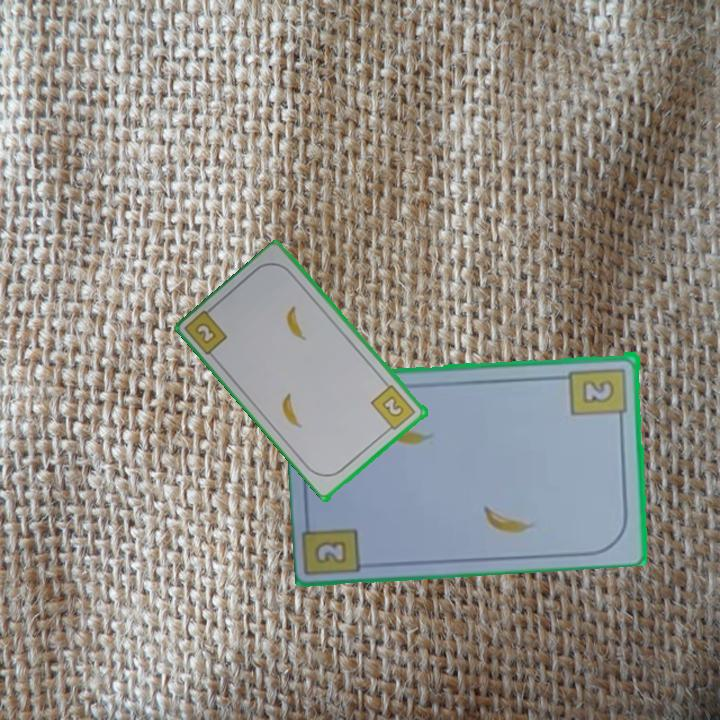2b: (567, 364, 631, 425), (368, 381, 419, 436), (314, 539, 346, 563), (194, 321, 220, 347)
